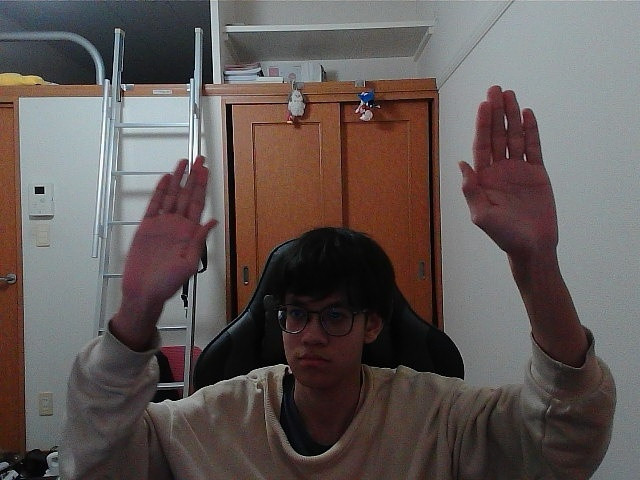open_palm: (466, 93, 537, 243)
